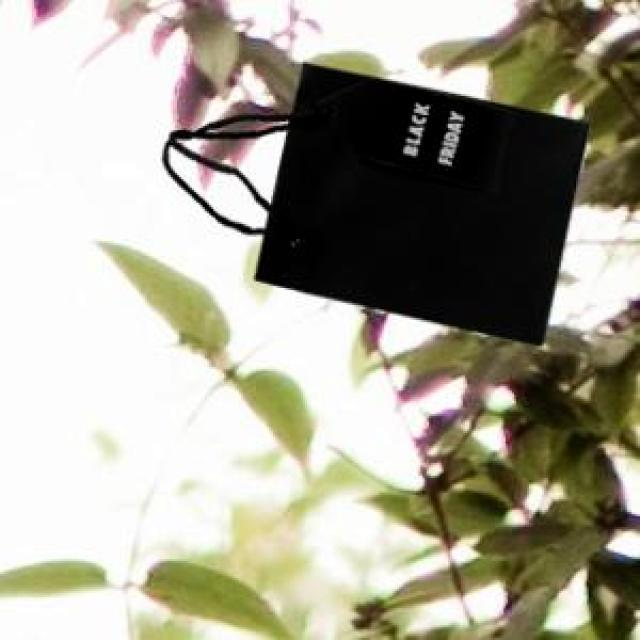Paper_Bag: (159, 61, 586, 342)
